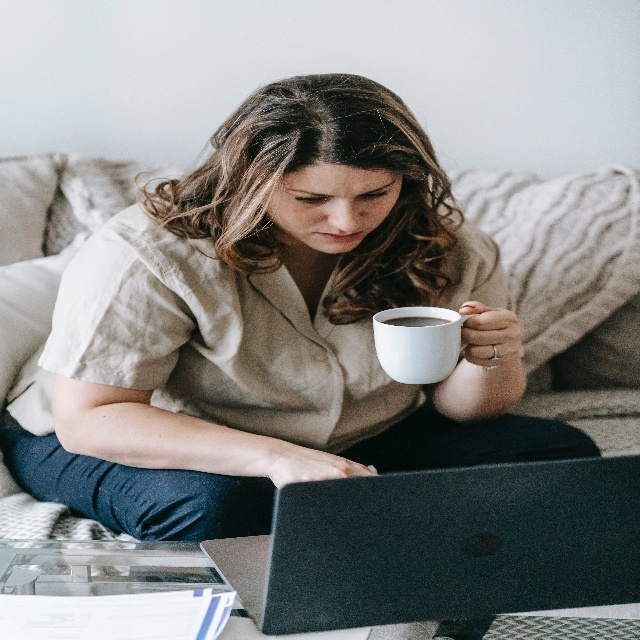Sin_guantes: (268, 437, 379, 492), (458, 300, 522, 368)
